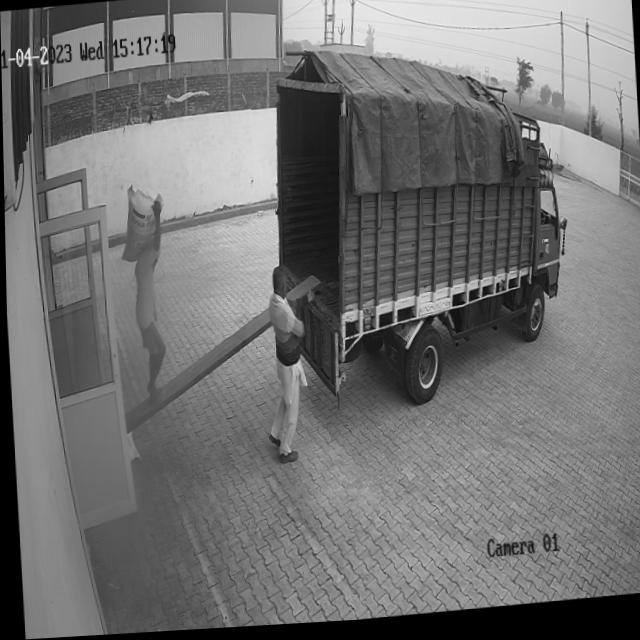sack: (114, 183, 163, 265)
